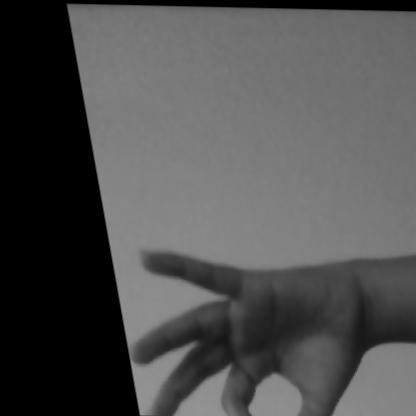ok: (99, 234, 389, 415)
